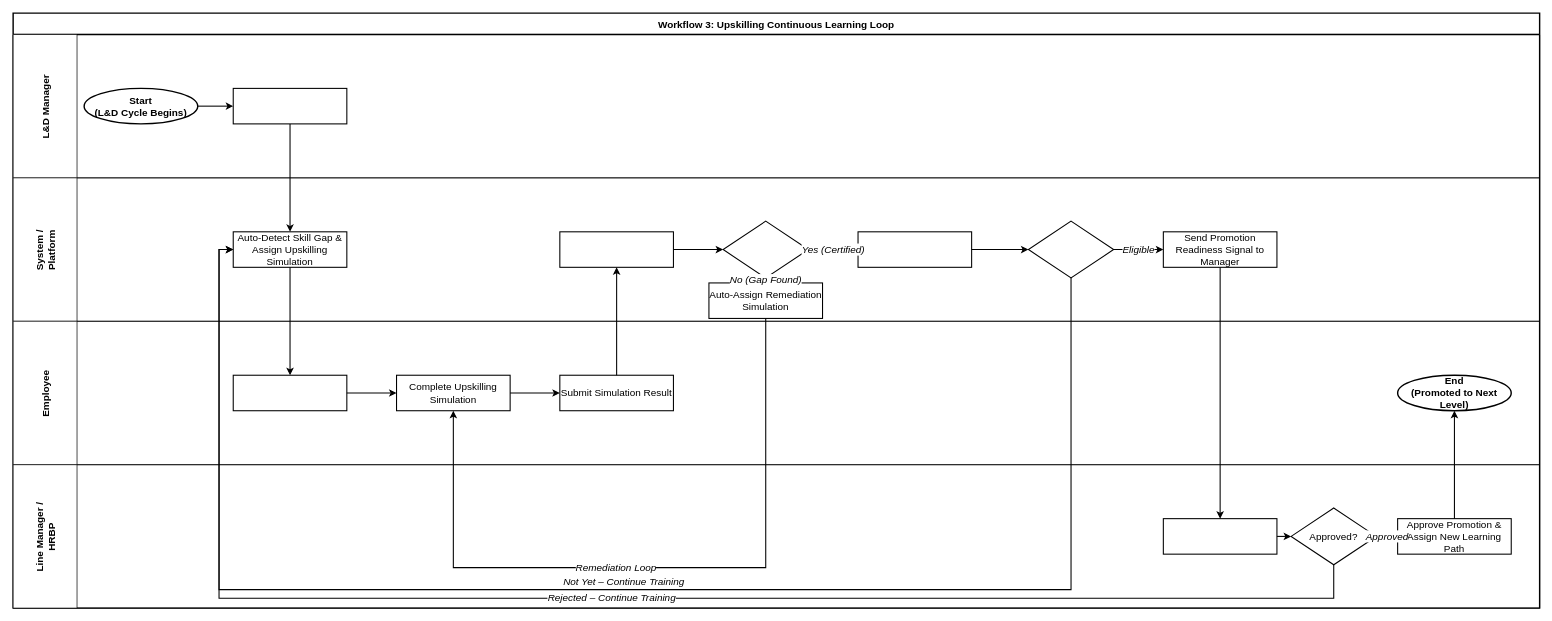
The diagram is 1552 pixels wide and 621 high, and some of its shapes have lost their labels. The shapes that lost their labels are listed below. From the top down, each one's centre as x and y in pixels, then its label:
point (289, 106): Define Competency Framework & Benchmark Scores
point (616, 249): AI Score & Gap Analysis
point (765, 249): Score ≥ Benchmark?
point (914, 249): Update Skill Matrix DB (Certified)
point (1071, 249): Promotion Eligible?
point (289, 392): Access Learning Path & Study Case Context
point (1219, 536): Review Promotion & Salary Decision
